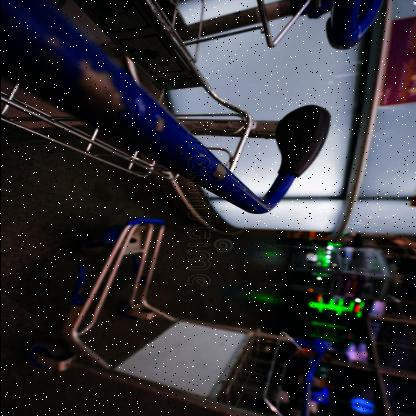airport-trolley: (1, 0, 339, 218), (16, 212, 334, 416), (148, 0, 394, 72)
